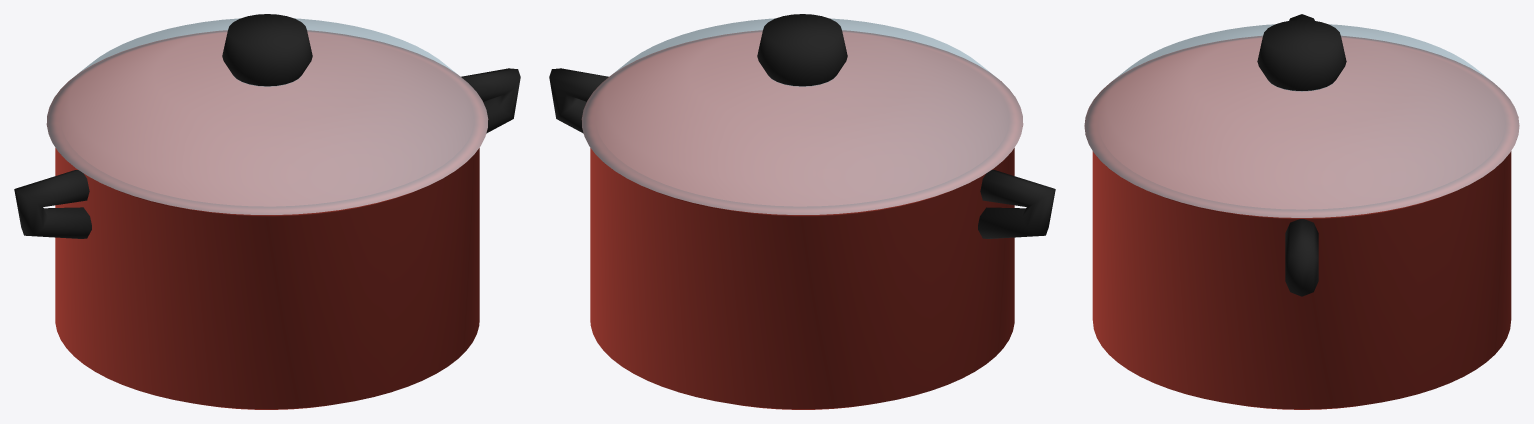
File: kitchen-pot.glb
The picture shows the model from 3 angles, left to right: view 1: azimuth 30°, elevation 25°; view 2: azimuth 150°, elevation 25°; view 3: azimuth 270°, elevation 25°; orthographic projection.
Parts seen in each view (by area): view 1: Pot__Body, Pot__Lid, Pot__Handles; view 2: Pot__Body, Pot__Lid, Pot__Handles; view 3: Pot__Body, Pot__Lid, Pot__Handles.
Part boxes in pixels (<box>): Pot__Body: <box>46,30,488,409</box>; Pot__Lid: <box>46,18,488,214</box>; Pot__Handles: <box>14,14,520,238</box>; Pot__Body: <box>581,30,1023,409</box>; Pot__Lid: <box>582,18,1023,214</box>; Pot__Handles: <box>549,14,1055,238</box>; Pot__Body: <box>1084,36,1519,409</box>; Pot__Lid: <box>1084,24,1519,217</box>; Pot__Handles: <box>1257,14,1346,296</box>.
Size of the model in its own units: 40.89 by 23.6 by 31.2.
